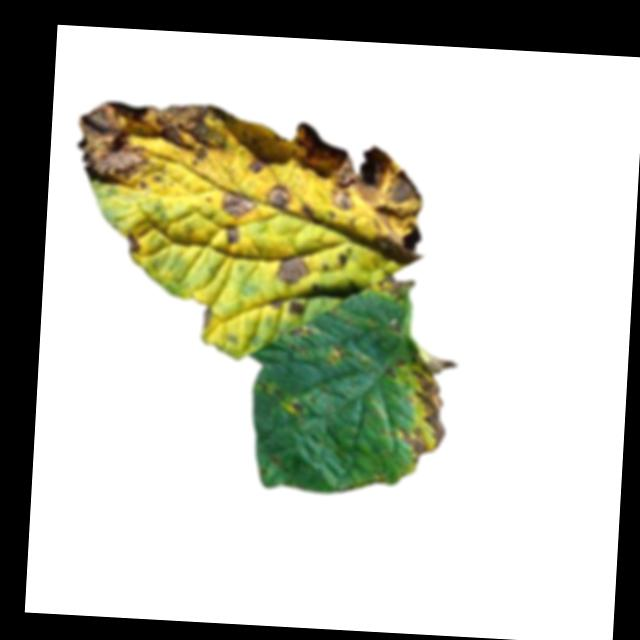Early_blight: (287, 122, 427, 253), (66, 97, 229, 195), (398, 341, 459, 471), (371, 274, 417, 302), (274, 255, 309, 285), (219, 192, 256, 219), (262, 183, 289, 212), (124, 232, 142, 257), (223, 224, 241, 246), (286, 300, 308, 316), (288, 400, 307, 417), (247, 159, 265, 176)
